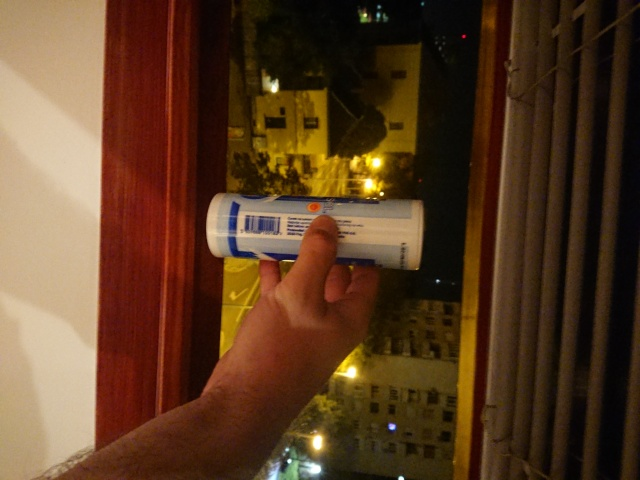Solana Pag Fine Sea Salt 250g: (201, 188, 428, 276)
